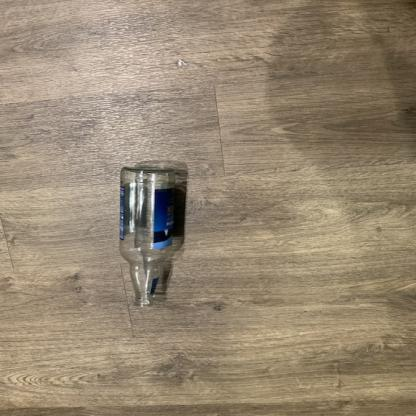trash: (120, 166, 174, 308)
